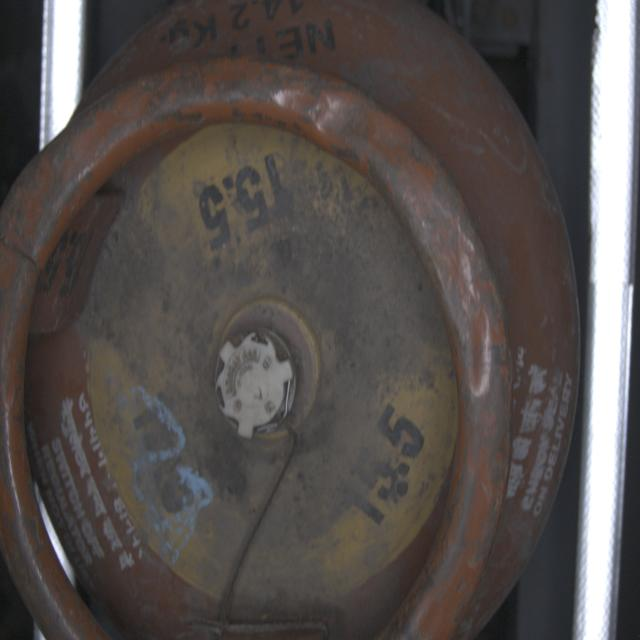Cap: (215, 327, 296, 439)
